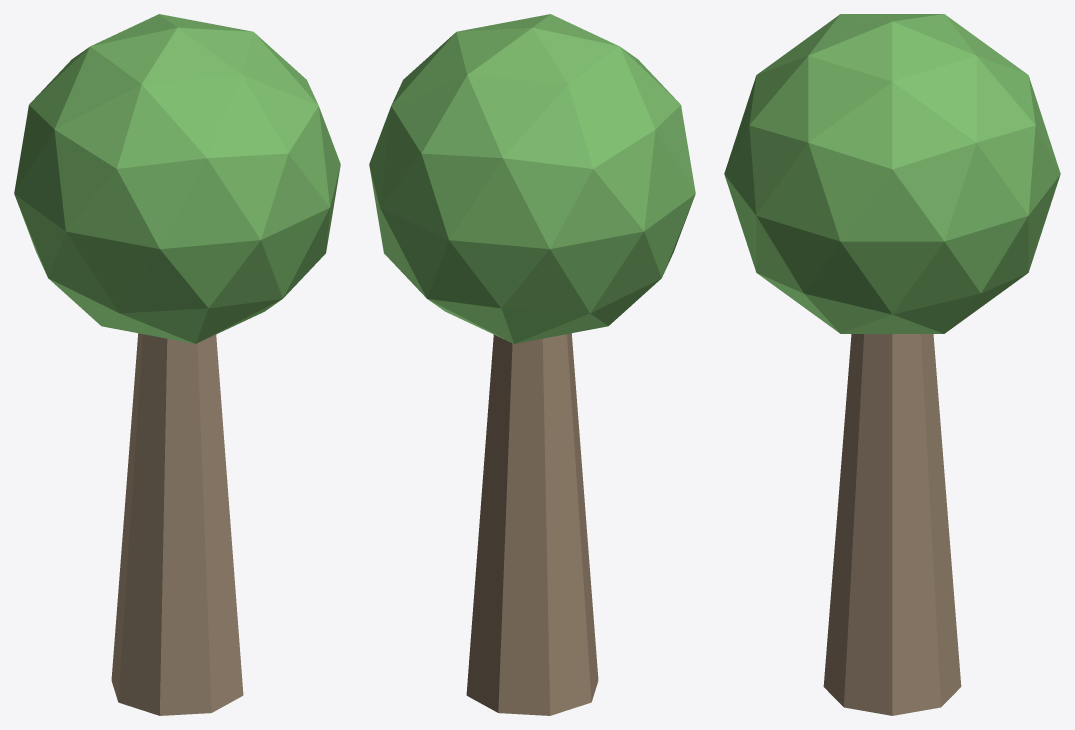
Rendered from oak_medium.glb.
3 views of the same model, side by side, from view 1: azimuth 30°, elevation 25°; view 2: azimuth 150°, elevation 25°; view 3: azimuth 270°, elevation 25° (orthographic).
Visible parts, largest first — view 1: Deciduous; view 2: Deciduous; view 3: Deciduous.
Part boxes in pixels (bbox=[...]): Deciduous: bbox=[14, 14, 340, 715]; Deciduous: bbox=[369, 14, 695, 715]; Deciduous: bbox=[724, 14, 1060, 715].
Bounding box in the file's own units: 1.05 × 2.4 × 1.1.
